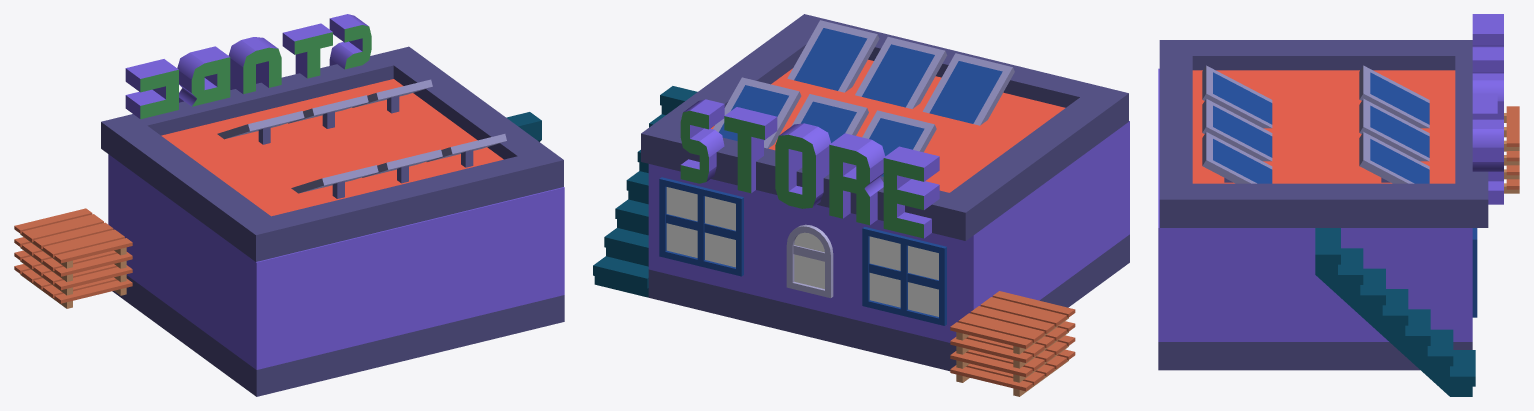
Rendered from Store.glb.
The picture shows the model from 3 angles, left to right: view 1: azimuth 30°, elevation 25°; view 2: azimuth 150°, elevation 25°; view 3: azimuth 270°, elevation 25°; orthographic projection. The views are drawn at different scales.
Parts seen in each view (by area): view 1: block, roof_flat, platform_wood (×4), solar_small (×6), E, R, O, S, T, stairs_stone; view 2: block, roof_flat, solar_small (×6), window_wide (×2), platform_wood (×4), stairs_stone, E, R, O, window_rounded, S, T; view 3: roof_flat, block, solar_small (×6), stairs_stone, S, E, R, O, T, platform_wood, window_wide.
Part boxes in pixels (x1=…): block: x1=108, y1=154, x2=564, y2=396; roof_flat: x1=101, y1=46, x2=563, y2=261; platform_wood (×4): x1=14, y1=208, x2=132, y2=308; solar_small (×6): x1=217, y1=79, x2=506, y2=198; E: x1=125, y1=59, x2=178, y2=119; R: x1=177, y1=46, x2=230, y2=106; O: x1=228, y1=37, x2=281, y2=94; S: x1=329, y1=14, x2=371, y2=69; T: x1=282, y1=23, x2=332, y2=78; stairs_stone: x1=506, y1=112, x2=541, y2=141; block: x1=648, y1=121, x2=1129, y2=371; roof_flat: x1=641, y1=14, x2=1128, y2=240; solar_small (×6): x1=713, y1=20, x2=1014, y2=176; window_wide (×2): x1=659, y1=177, x2=946, y2=325; platform_wood (×4): x1=950, y1=291, x2=1075, y2=396; stairs_stone: x1=593, y1=86, x2=697, y2=297; E: x1=883, y1=146, x2=939, y2=238; R: x1=829, y1=133, x2=885, y2=225; O: x1=775, y1=123, x2=830, y2=208; window_rounded: x1=786, y1=224, x2=833, y2=298; S: x1=680, y1=99, x2=724, y2=183; T: x1=724, y1=107, x2=777, y2=193; roof_flat: x1=1159, y1=40, x2=1488, y2=227; block: x1=1158, y1=68, x2=1472, y2=370; solar_small (×6): x1=1202, y1=65, x2=1429, y2=183; stairs_stone: x1=1315, y1=228, x2=1475, y2=396; S: x1=1472, y1=119, x2=1503, y2=204; E: x1=1472, y1=14, x2=1503, y2=45; R: x1=1472, y1=45, x2=1503, y2=72; O: x1=1472, y1=72, x2=1503, y2=119; T: x1=1472, y1=93, x2=1497, y2=119; platform_wood: x1=1504, y1=106, x2=1519, y2=150; window_wide: x1=1472, y1=228, x2=1477, y2=317.
Size of the model in its own units: 3.36 by 1.5 by 2.3.
